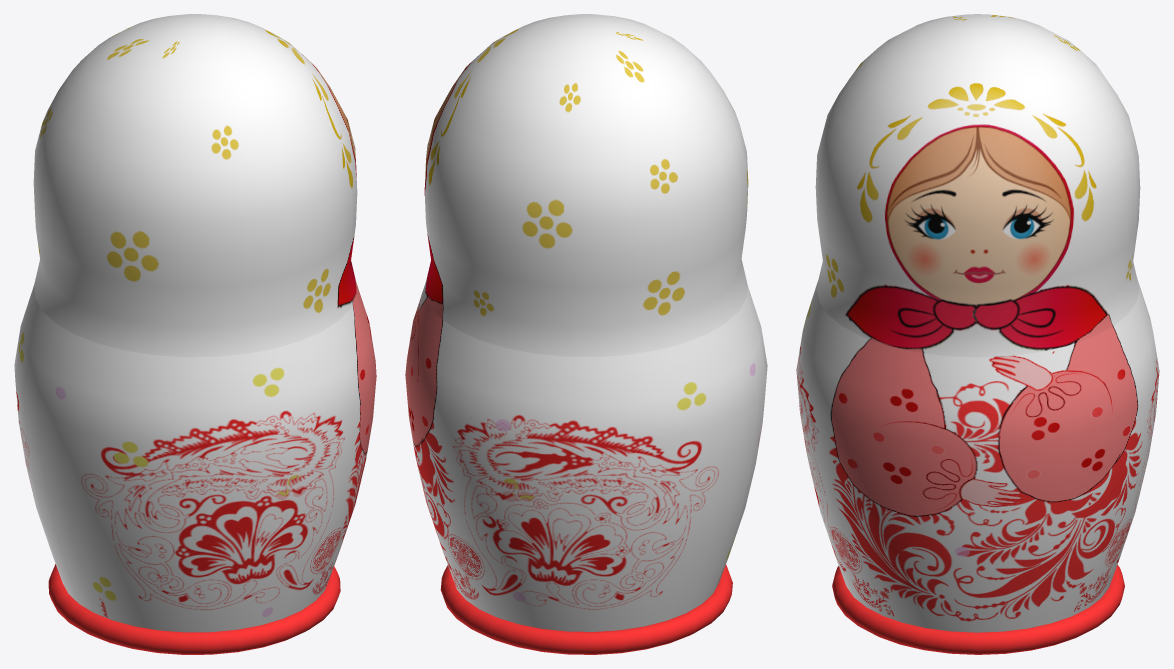
Rendered from FM_H_Doll_BH_Doll_03_001.fbx.
3 renders of one model, left to right at view 1: azimuth 30°, elevation 25°; view 2: azimuth 150°, elevation 25°; view 3: azimuth 270°, elevation 25°, orthographic.
Visible parts, largest first — view 1: FM_H_Doll_BH_Doll_03_001; view 2: FM_H_Doll_BH_Doll_03_001; view 3: FM_H_Doll_BH_Doll_03_001.
Part boxes in pixels (bbox=[...]): FM_H_Doll_BH_Doll_03_001: bbox=[14, 14, 376, 654]; FM_H_Doll_BH_Doll_03_001: bbox=[405, 14, 767, 654]; FM_H_Doll_BH_Doll_03_001: bbox=[796, 14, 1159, 654].
Bounding box in the file's own units: 8.94 × 15.42 × 8.94.
